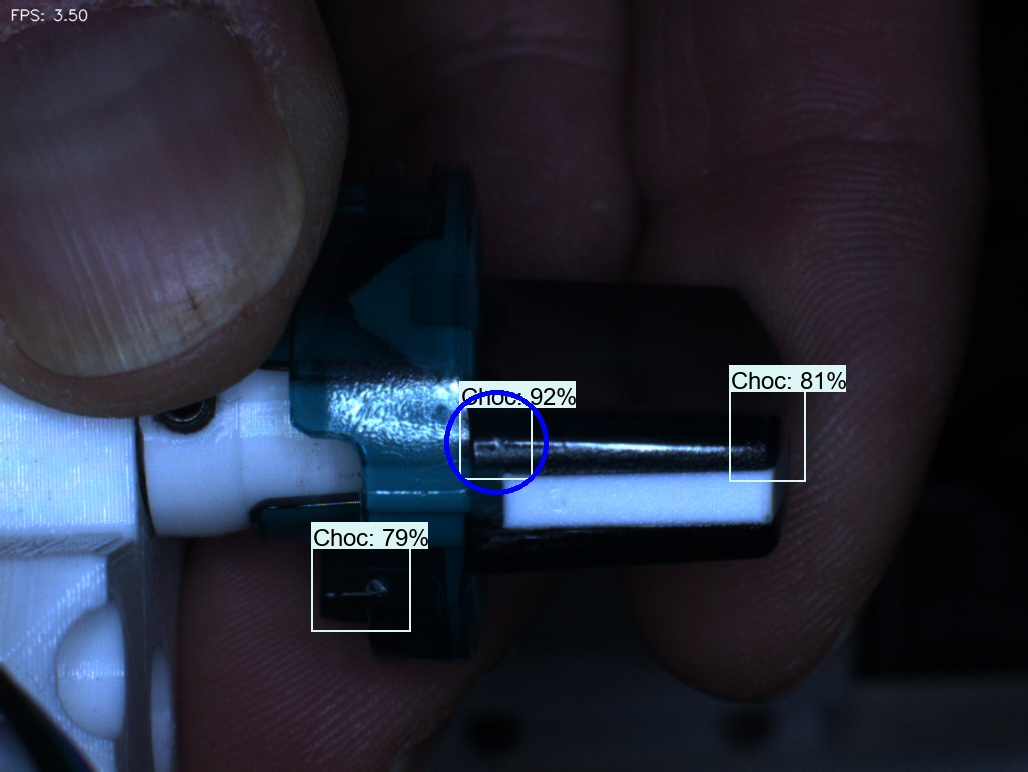DentOk: (324, 259, 400, 361)
